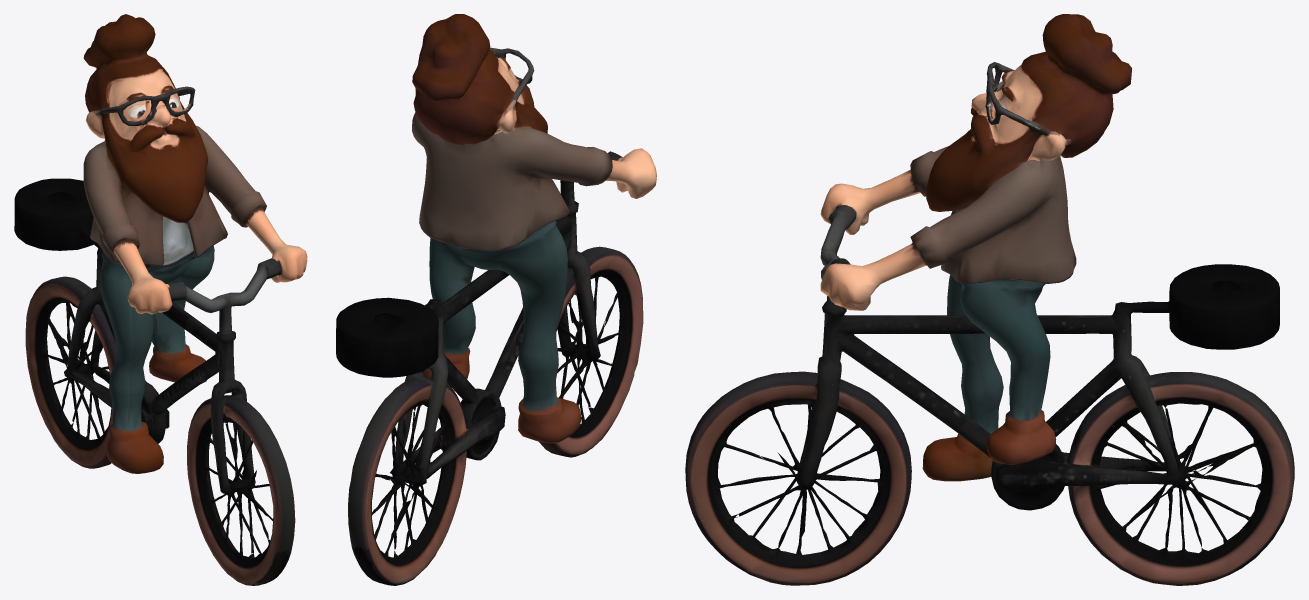
The model's file is ranged.glb.
The picture shows the model from 3 angles, left to right: view 1: azimuth 30°, elevation 25°; view 2: azimuth 150°, elevation 25°; view 3: azimuth 270°, elevation 25°; orthographic projection. The views are drawn at different scales.
Bounding box in the file's own units: 0.745 × 1.91 × 1.86.
Materials: 1 (1 with a texture image).
